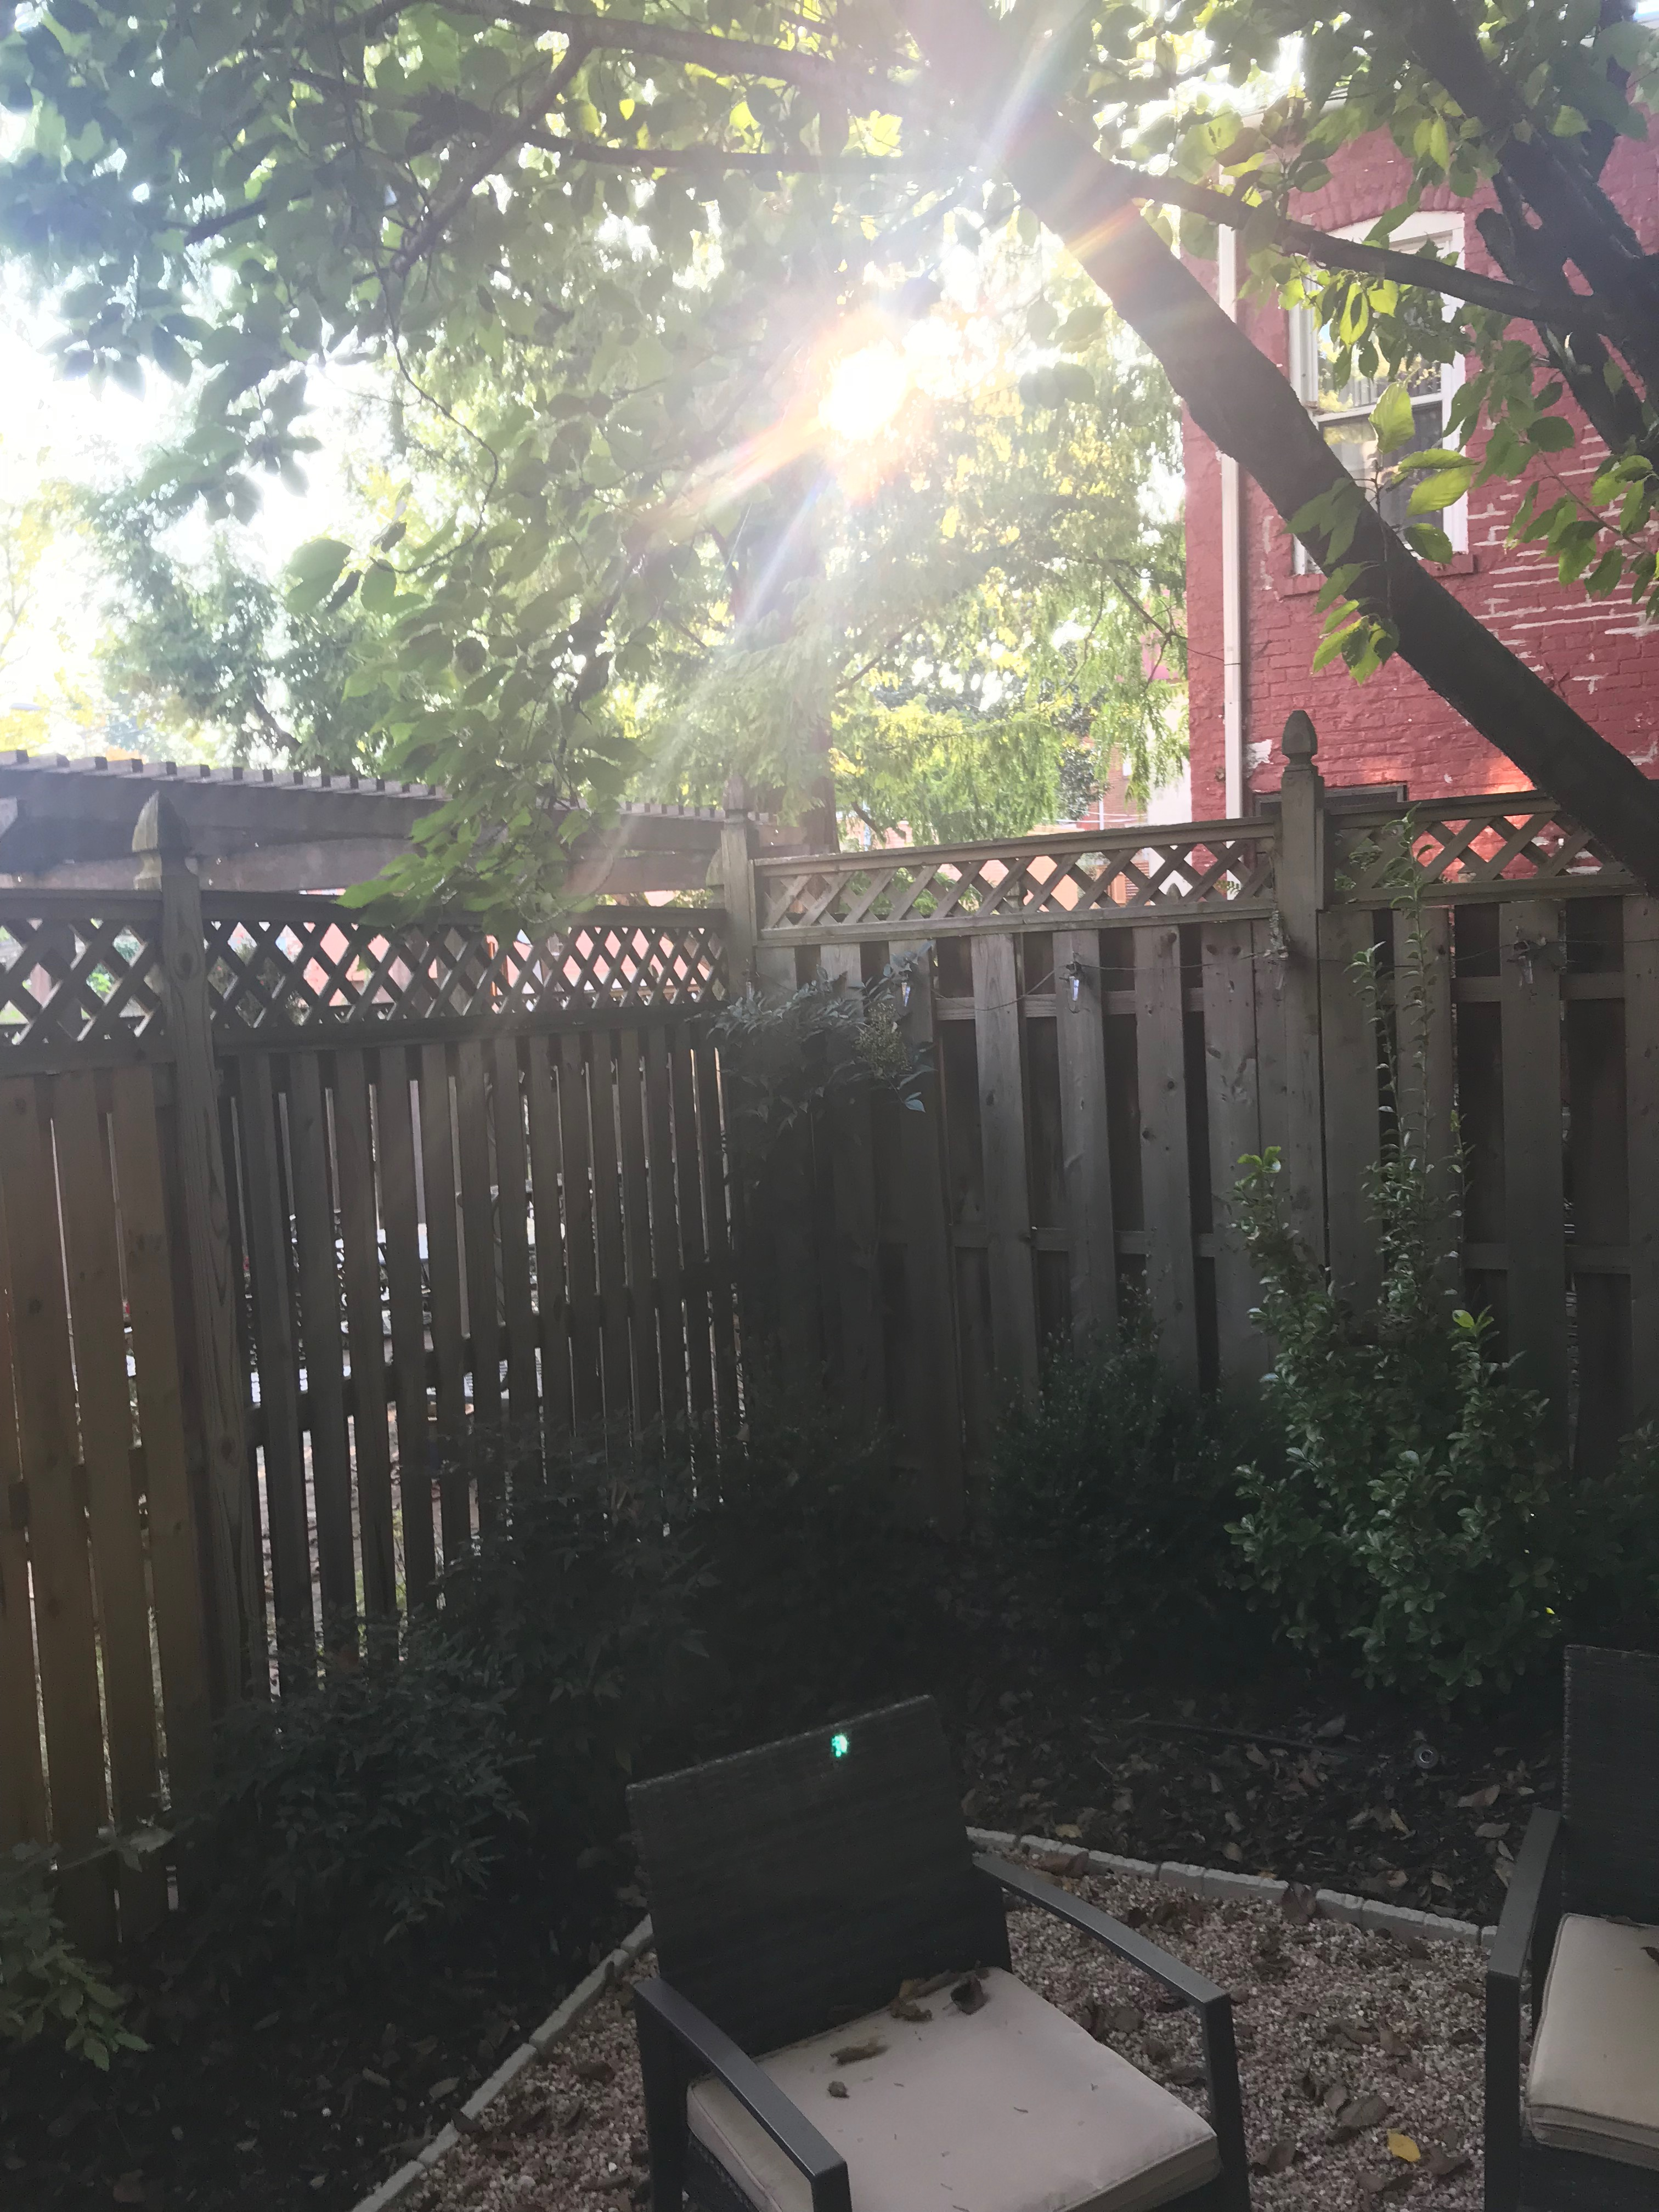flare: (830, 1730, 852, 1759)
